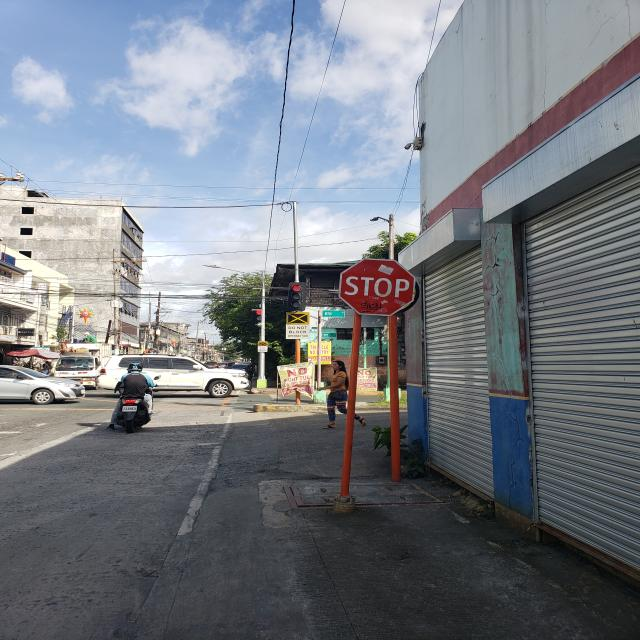stop-sign: (338, 258, 416, 316)
